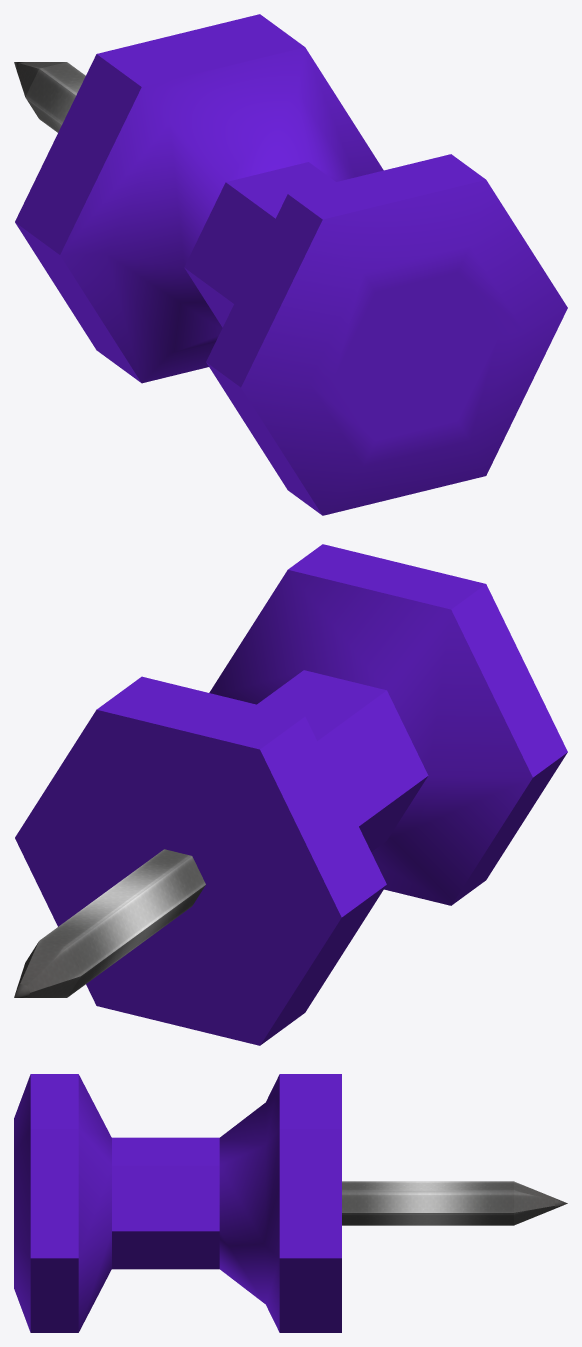
Rendered from Tack_F.FBX.
3 views of the same model, one above another, from view 1: azimuth 30°, elevation 25°; view 2: azimuth 150°, elevation 25°; view 3: azimuth 270°, elevation 25° (orthographic). The views are drawn at different scales.
Parts seen in each view (by area): view 1: Tack; view 2: Tack; view 3: Tack.
Part boxes in pixels (left/top/right/bottom): Tack: left=14, top=14, right=567, bottom=515; Tack: left=14, top=544, right=567, bottom=1045; Tack: left=14, top=1074, right=567, bottom=1332.
Size of the model in its own units: 6.28 by 5.43 by 13.38.
